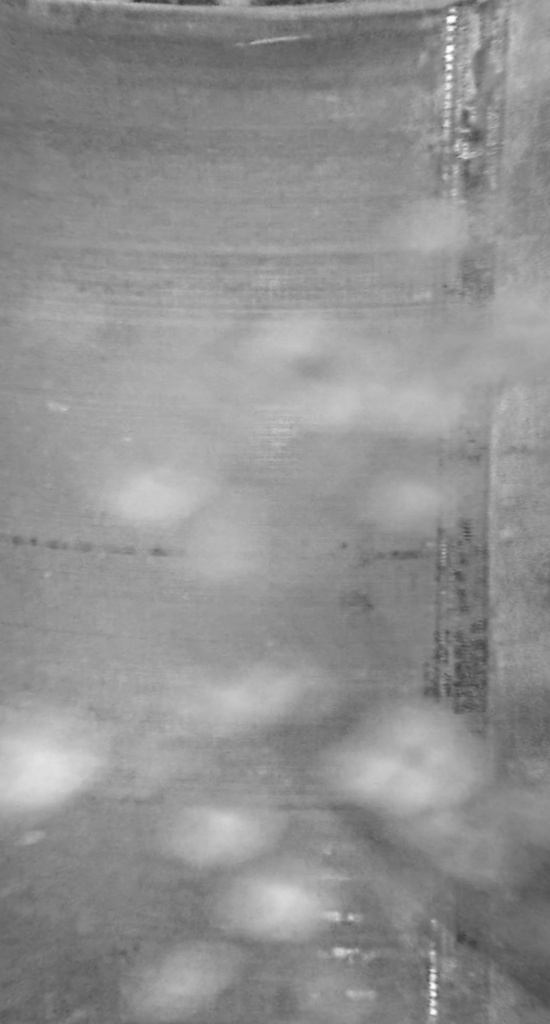splice: (422, 2, 519, 1024)
